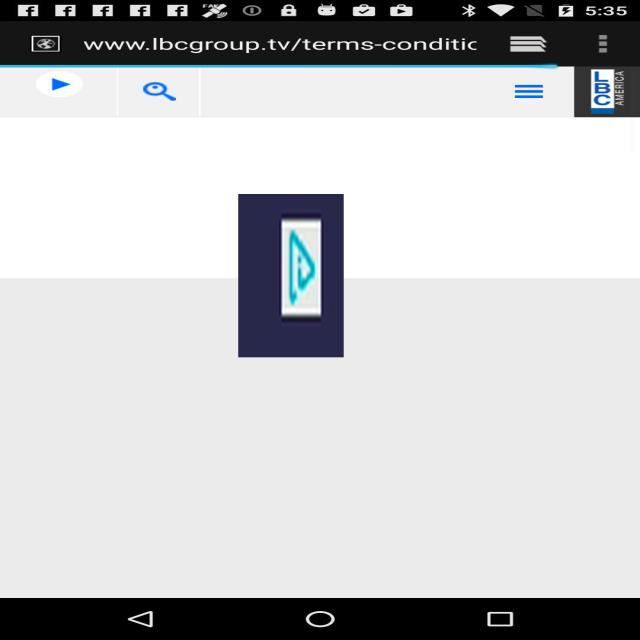sneaking: (238, 194, 344, 357)
